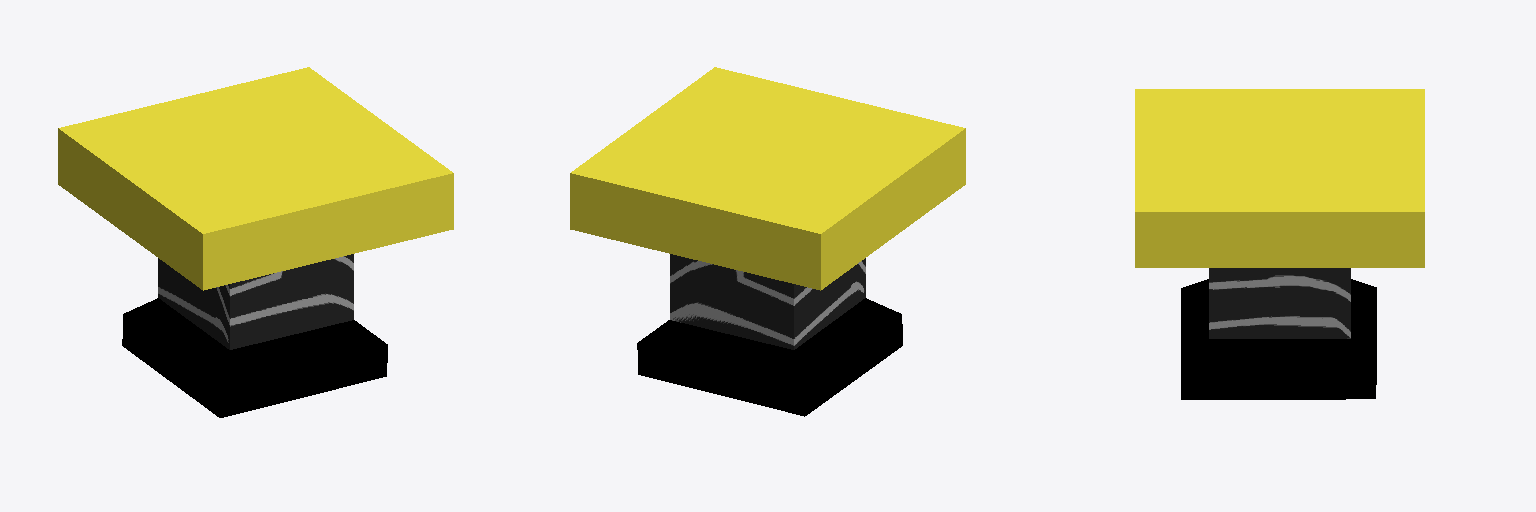
3 views of the same model, side by side, from view 1: azimuth 30°, elevation 25°; view 2: azimuth 150°, elevation 25°; view 3: azimuth 270°, elevation 25° (orthographic).
Parts seen in each view (by area): view 1: Cube; view 2: Cube; view 3: Cube.
Part boxes in pixels (x1,y1,x2,y2): Cube: (58,67,453,417); Cube: (570,67,965,416); Cube: (1135,89,1424,399).
Size of the model in its own units: 2 by 1.61 by 2.
Materials: 1 (1 with a texture image).